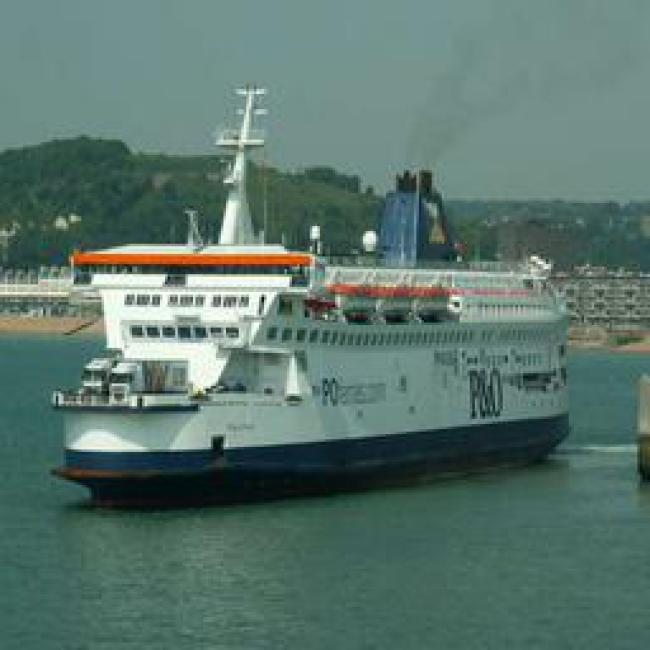Ship: (42, 248, 585, 468)
